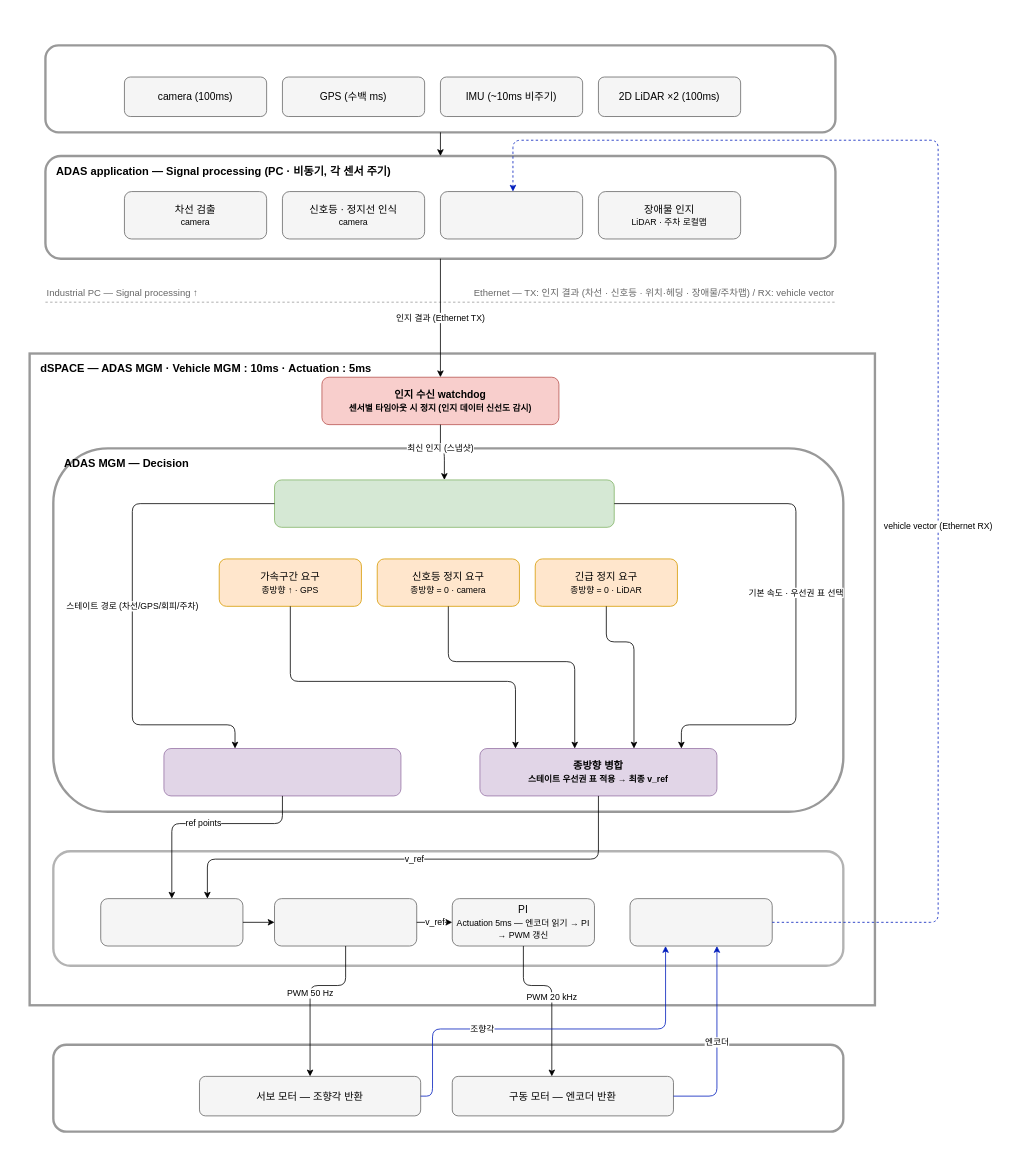
The diagram is 1022 pixels wide and 1164 high, and some of its shapes have lost their labels. Here are the shapes that lost their labels. From the top down, the box of each, then its label:
(44, 44, 836, 133): 센서
(440, 191, 583, 239): GPS · IMU 융합 위치 · 헤딩
(274, 479, 614, 527): 주행 모드 스테이트 머신 lane ↔ waypoint ↔ avoid ↔ parking · 각 스테이트 내 우선권 결정
(163, 748, 401, 796): ref points 조립 스테이트 경로 → ref points 변환 · 전환 연속 처리
(100, 898, 243, 946): 궤적 생성 quintic · 타당성 검사
(274, 898, 417, 946): MPC 횡 · 종 통합 → str_ref, v_ref
(52, 850, 844, 967): Vehicle MGM — Control
(629, 898, 772, 946): 상태 추정 kinematic bicycle model
(52, 1043, 844, 1132): Actuator
